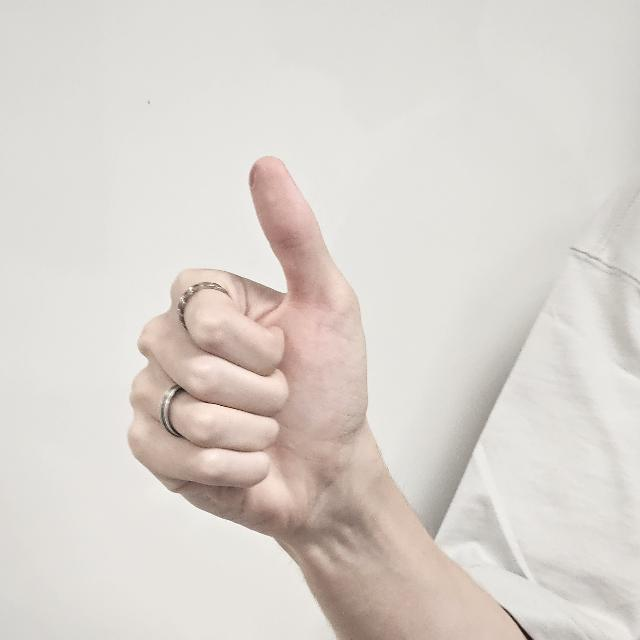Start: (126, 148, 390, 556)
